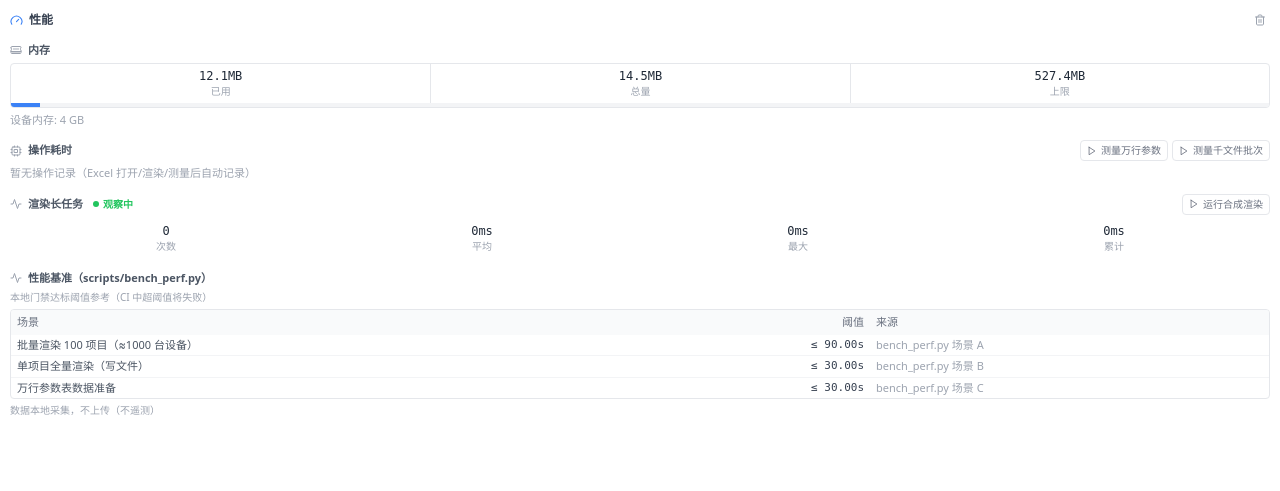
PerformancePanel（S6-3/S6-4 采集展示） › 点击测量万行参数 → 记录 render 操作并展示
This screenshot has width=1280, height=491.
Click the button "测量万行参数" at (1124, 150), box x1=1080 y1=140 x2=1168 y2=161
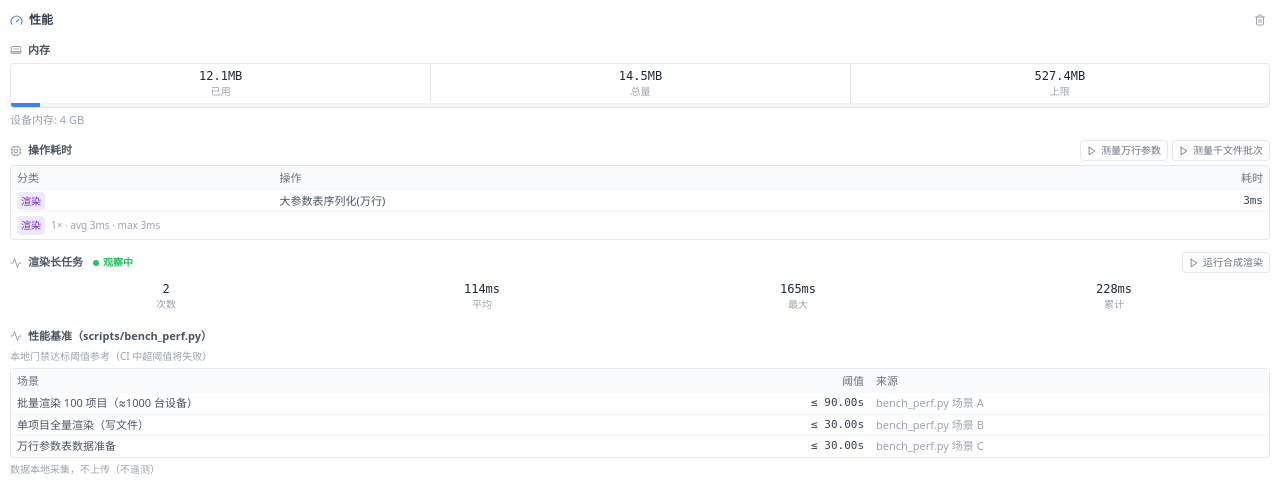
Check: the text "大参数表序列化(万行)" is shown, box x1=274 y1=190 x2=1046 y2=211
